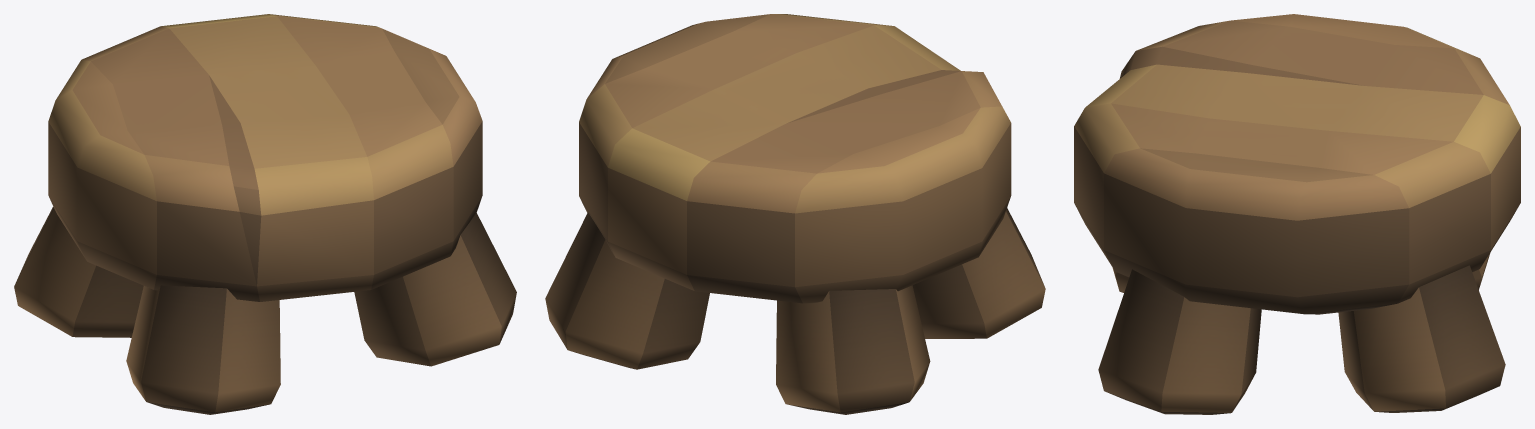
Rendered from stool4_LOD_setup.fbx.
3 views of the same model, side by side, from view 1: azimuth 30°, elevation 25°; view 2: azimuth 150°, elevation 25°; view 3: azimuth 270°, elevation 25° (orthographic). The views are drawn at different scales.
Parts seen in each view (by area): view 1: stool4_LOD0; view 2: stool4_LOD0; view 3: stool4_LOD0.
Boxes of the visible parts, x1,y1,x2,y2 form: stool4_LOD0: (14, 14, 516, 414); stool4_LOD0: (545, 14, 1045, 414); stool4_LOD0: (1074, 14, 1520, 414).
Size of what is drawn, in the model's own units: 56.56 by 34.98 by 56.54.
